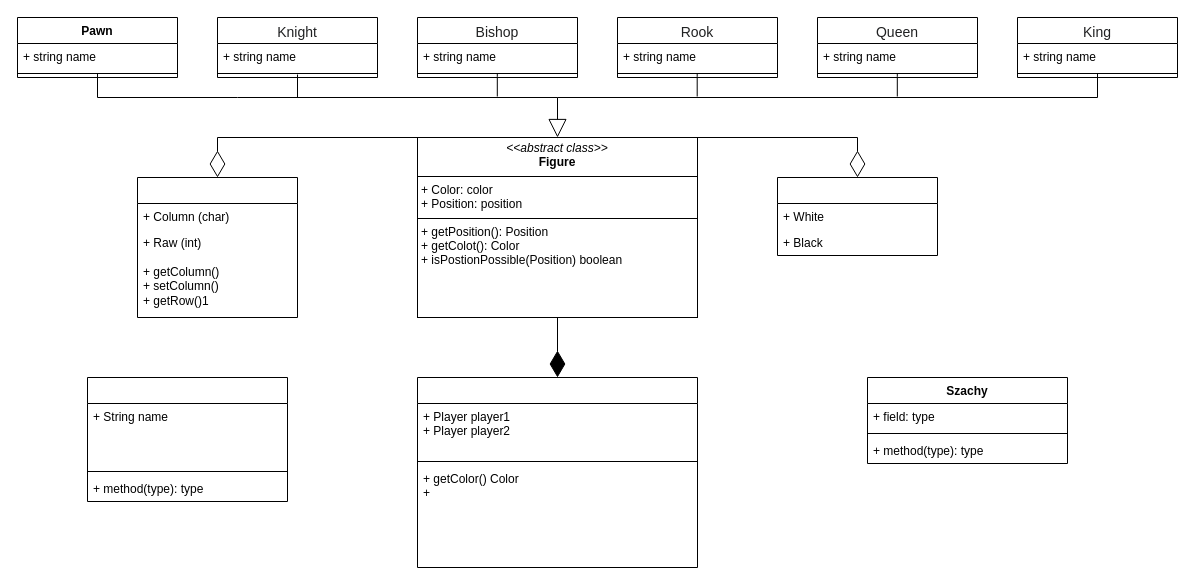
Some shapes in this 1195 by 588 pixel diagram are drawn without their labels. The shapes that lost their labels are listed below. From the top down, each one's box as (x1, y1, x2, y2) in pixels, then its label:
(776, 176, 938, 256): Color
(136, 176, 298, 318): Position
(86, 376, 288, 502): Player
(416, 376, 698, 568): Board
